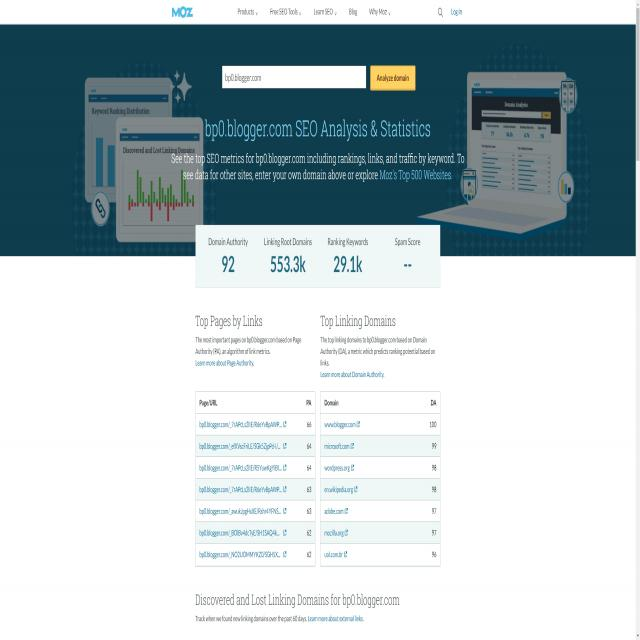search: (222, 64, 418, 92)
